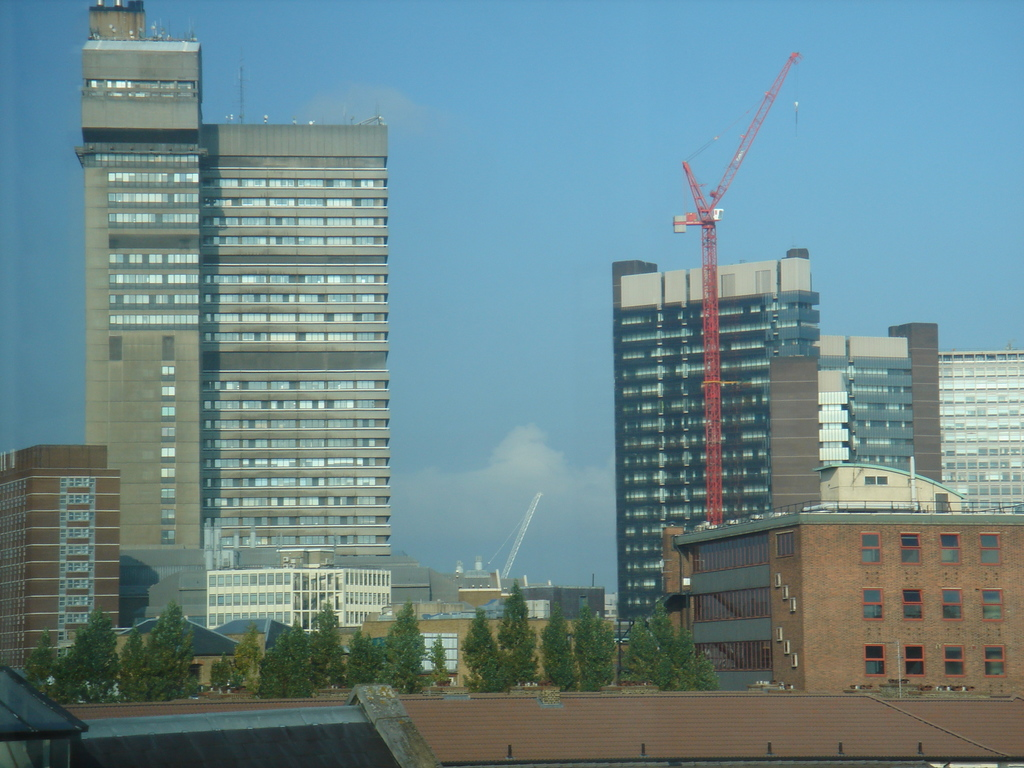Window: (979, 532, 1004, 568), (897, 531, 923, 565), (862, 588, 886, 623), (941, 642, 965, 676), (860, 531, 883, 566), (902, 589, 925, 622), (865, 643, 888, 675), (985, 646, 1006, 678), (984, 588, 1004, 621), (907, 646, 925, 676), (947, 588, 963, 621), (944, 532, 961, 561)
